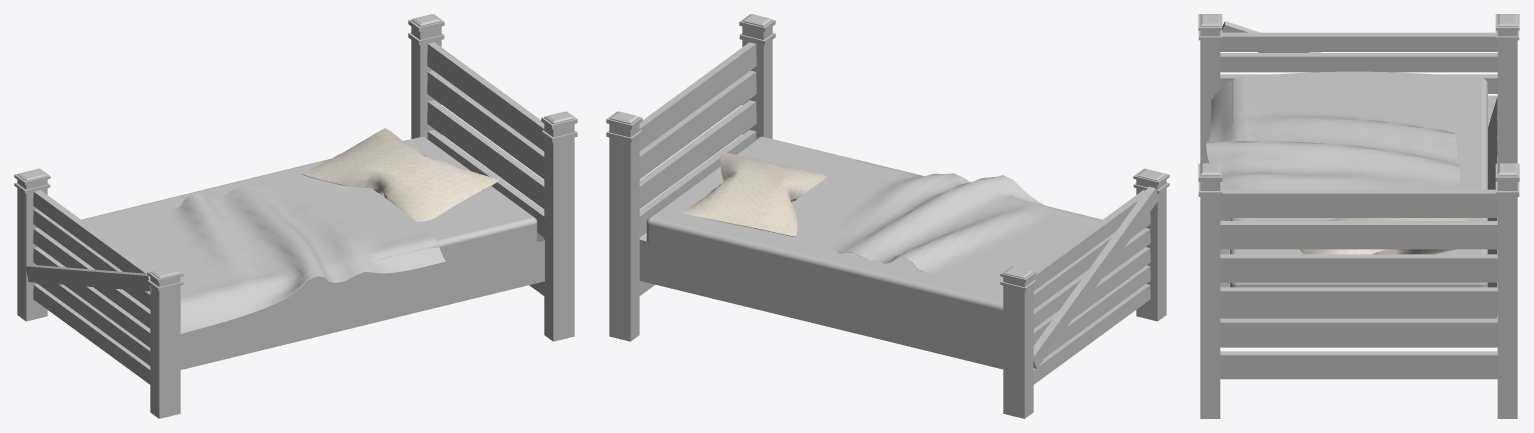
File: Bed_01.fbx
3 views of the same model, side by side, from view 1: azimuth 30°, elevation 25°; view 2: azimuth 150°, elevation 25°; view 3: azimuth 270°, elevation 25° (orthographic). The views are drawn at different scales.
Parts seen in each view (by area): view 1: polySurface21, polySurface54, polySurface1, polySurface2, polySurface45, polySurface51, polySurface44, polySurface42, polySurface43, polySurface40, polySurface41, polySurface47 (+7 smaller); view 2: polySurface21, polySurface1, polySurface54, polySurface41, polySurface2, polySurface40, polySurface44, polySurface42, polySurface46, polySurface43, polySurface51, polySurface45 (+7 smaller); view 3: polySurface21, polySurface27, polySurface38, polySurface39, polySurface43, polySurface44, polySurface42, polySurface1, polySurface47, polySurface41, polySurface45, polySurface53 (+6 smaller).
Part boxes in pixels (left/top/right/bottom): polySurface21: left=95, top=177, right=445, bottom=333; polySurface54: left=180, top=233, right=544, bottom=369; polySurface1: left=81, top=136, right=537, bottom=307; polySurface2: left=302, top=128, right=500, bottom=221; polySurface45: left=541, top=111, right=577, bottom=341; polySurface51: left=147, top=266, right=183, bottom=418; polySurface44: left=427, top=100, right=544, bottom=208; polySurface42: left=427, top=42, right=544, bottom=151; polySurface43: left=427, top=70, right=544, bottom=179; polySurface40: left=14, top=168, right=50, bottom=321; polySurface41: left=408, top=14, right=444, bottom=138; polySurface47: left=33, top=190, right=150, bottom=273; polySurface21: left=759, top=160, right=1102, bottom=290; polySurface1: left=646, top=136, right=1003, bottom=328; polySurface54: left=639, top=233, right=1003, bottom=369; polySurface41: left=606, top=111, right=642, bottom=341; polySurface2: left=682, top=152, right=827, bottom=237; polySurface40: left=1000, top=266, right=1036, bottom=418; polySurface44: left=639, top=100, right=756, bottom=208; polySurface42: left=639, top=42, right=756, bottom=151; polySurface46: left=1033, top=186, right=1159, bottom=368; polySurface43: left=639, top=70, right=756, bottom=179; polySurface51: left=1133, top=168, right=1169, bottom=321; polySurface45: left=739, top=14, right=775, bottom=138; polySurface21: left=1206, top=71, right=1459, bottom=220; polySurface27: left=1220, top=287, right=1497, bottom=315; polySurface38: left=1220, top=318, right=1497, bottom=346; polySurface39: left=1220, top=351, right=1497, bottom=379; polySurface43: left=1220, top=221, right=1497, bottom=249; polySurface44: left=1220, top=254, right=1497, bottom=282; polySurface42: left=1220, top=189, right=1497, bottom=217; polySurface1: left=1230, top=78, right=1487, bottom=287; polySurface47: left=1220, top=32, right=1497, bottom=51; polySurface41: left=1495, top=163, right=1519, bottom=418; polySurface45: left=1198, top=163, right=1222, bottom=418; polySurface53: left=1220, top=53, right=1497, bottom=72.
Bounding box in the file's own units: 319 × 160 × 190.
